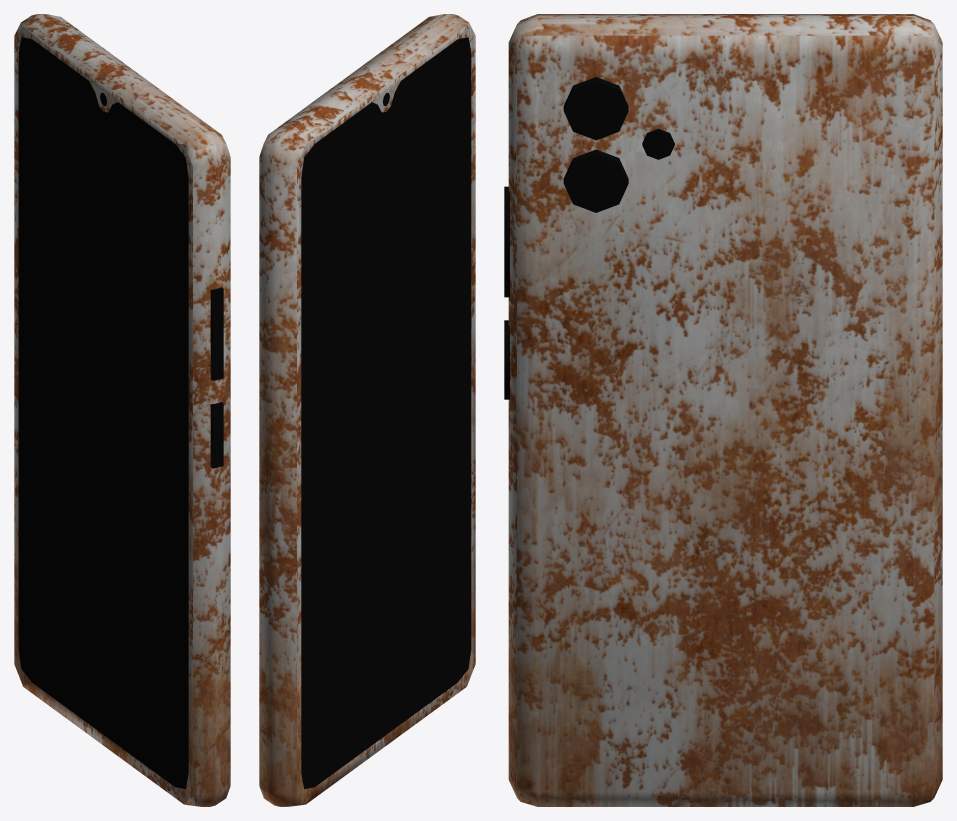
File: 3D_Sibyl202604_Phone.fbx
3 views of the same model, side by side, from view 1: azimuth 30°, elevation 25°; view 2: azimuth 150°, elevation 25°; view 3: azimuth 270°, elevation 25° (orthographic). The views are drawn at different scales.
Parts seen in each view (by area): view 1: Cube.004; view 2: Cube.004; view 3: Cube.004.
Boxes of the visible parts, x1,y1,x2,y2 form: Cube.004: [14, 14, 230, 806]; Cube.004: [259, 14, 475, 806]; Cube.004: [504, 14, 942, 806].
Bounding box in the file's own units: 1.61 × 10.1 × 20.
Materials: 3 (1 with a texture image).
